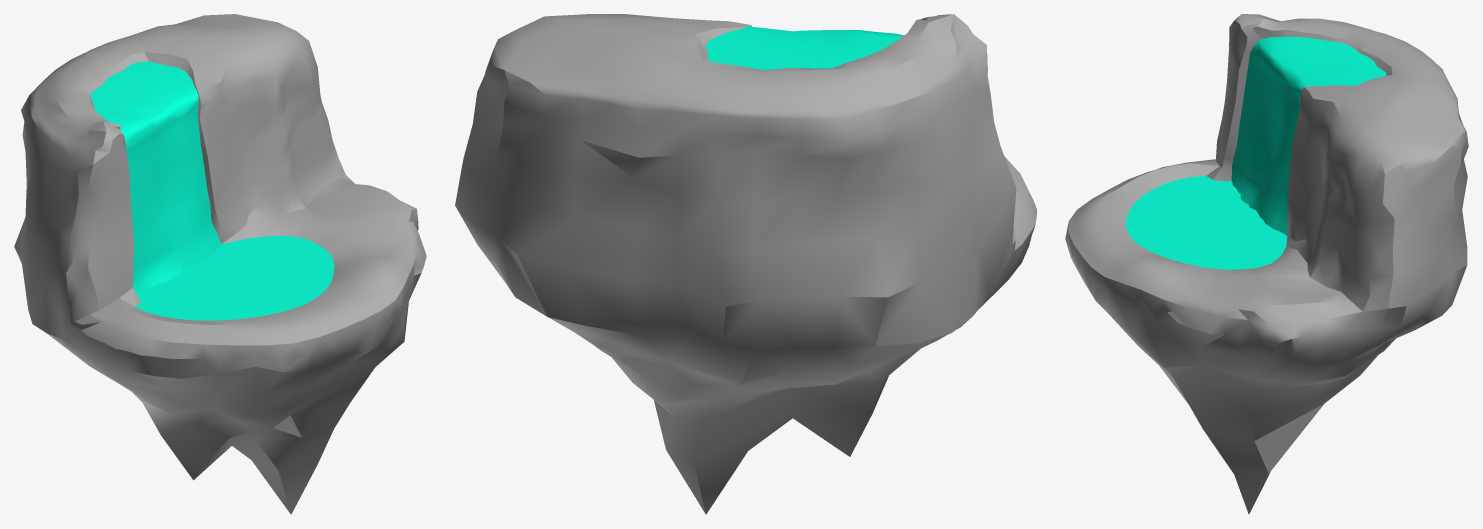
Rendered from Portifoly Island.fbx.
3 renders of one model, left to right at view 1: azimuth 30°, elevation 25°; view 2: azimuth 150°, elevation 25°; view 3: azimuth 270°, elevation 25°, orthographic. The views are drawn at different scales.
Visible parts, largest first — view 1: Waterfall_Isle, Waterfall, Lake_Under, Lake_Upper; view 2: Waterfall_Isle, Lake_Upper; view 3: Waterfall_Isle, Lake_Under, Waterfall, Lake_Upper.
Boxes of the visible parts, x1,y1,x2,y2 form: Waterfall_Isle: (14, 14, 426, 514); Waterfall: (126, 107, 222, 292); Lake_Under: (135, 236, 334, 320); Lake_Upper: (90, 61, 198, 149); Waterfall_Isle: (455, 14, 1036, 514); Lake_Upper: (705, 26, 903, 69); Waterfall_Isle: (1065, 14, 1468, 514); Lake_Under: (1125, 175, 1287, 269); Waterfall: (1231, 52, 1299, 235); Lake_Upper: (1251, 36, 1386, 96).
Size of the model in its own units: 9.96 by 10.9 by 9.65.
